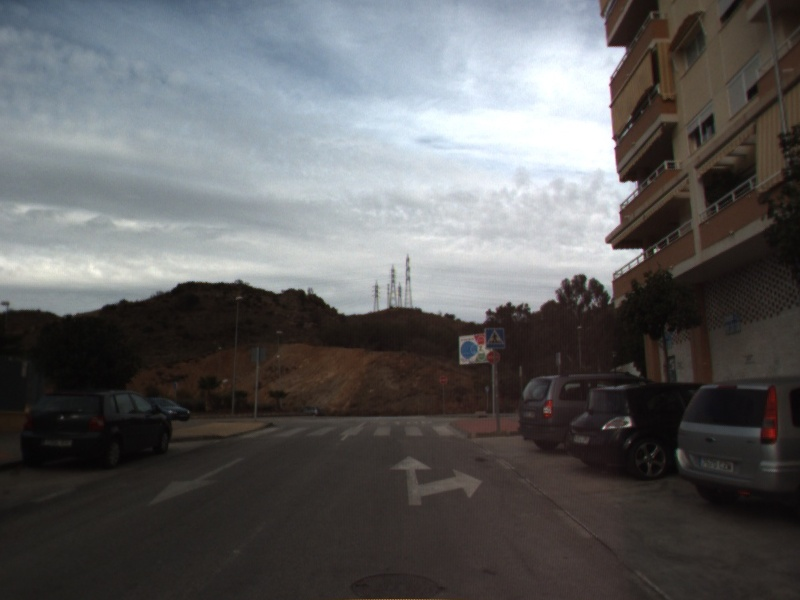STRAIGHT_RIGHT: (387, 453, 485, 508)
